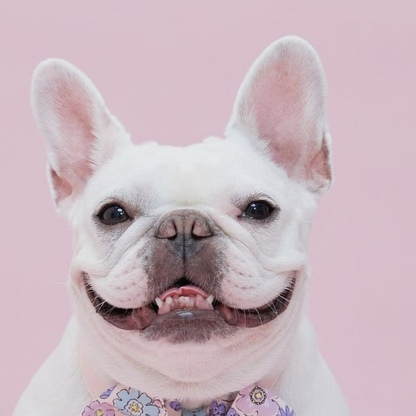bulldog: (31, 35, 348, 381)
